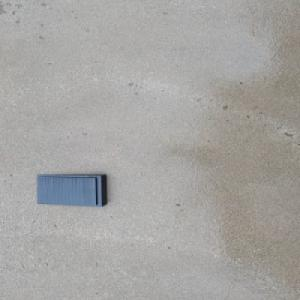PlasticPart: (35, 173, 108, 207)
